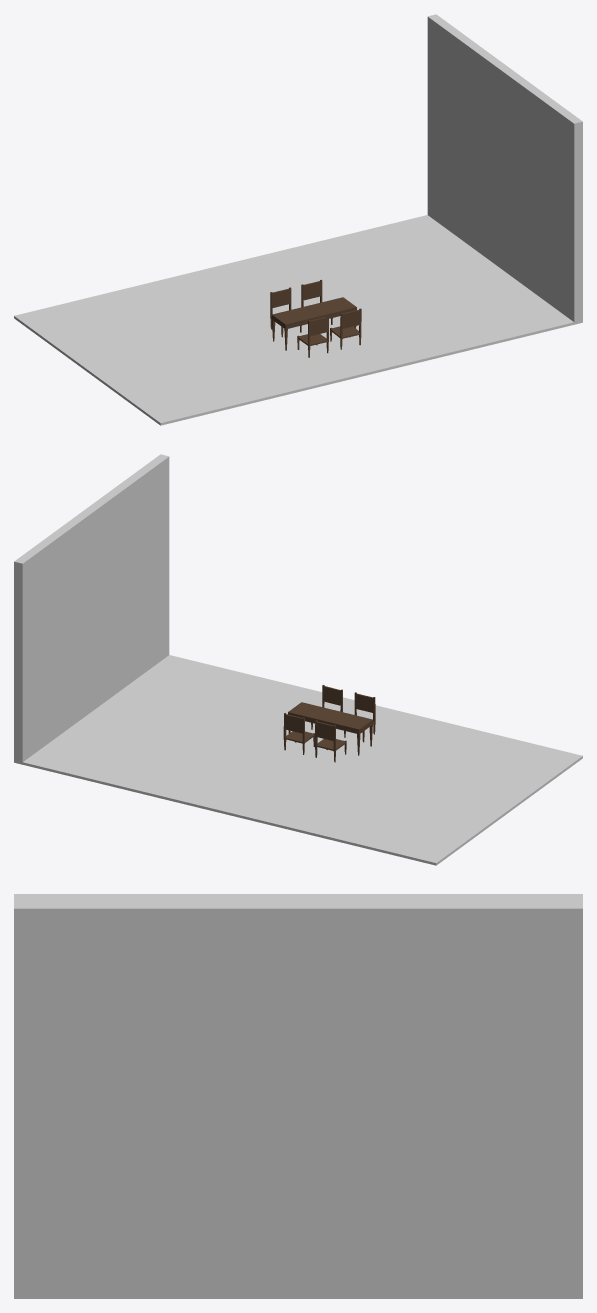
File: Table_chaise_Axelazizi.gltf
3 views of the same model, one above another, from view 1: azimuth 30°, elevation 25°; view 2: azimuth 150°, elevation 25°; view 3: azimuth 270°, elevation 25° (orthographic). The views are drawn at different scales.
Parts seen in each view (by area): view 1: Cube, table, chaise1, chaise2; view 2: Cube, table, chaise3, chaise4; view 3: Cube.
Part boxes in pixels (box(x1,y1,x2,y2)): Cube: box(14, 14, 582, 425); table: box(272, 297, 356, 350); chaise1: box(330, 308, 361, 349); chaise2: box(297, 315, 328, 357); Cube: box(14, 454, 582, 865); table: box(288, 702, 372, 755); chaise3: box(283, 713, 314, 754); chaise4: box(315, 720, 346, 762); Cube: box(14, 894, 582, 1298).
Bounding box in the file's own units: 37.08 × 16.87 × 22.3.
